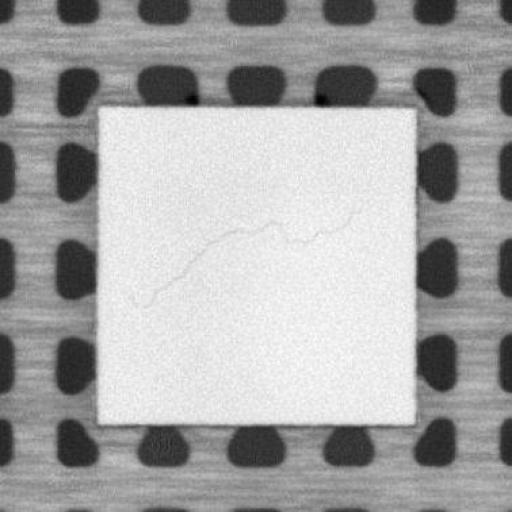DIE_CRACK: (142, 200, 392, 312)
